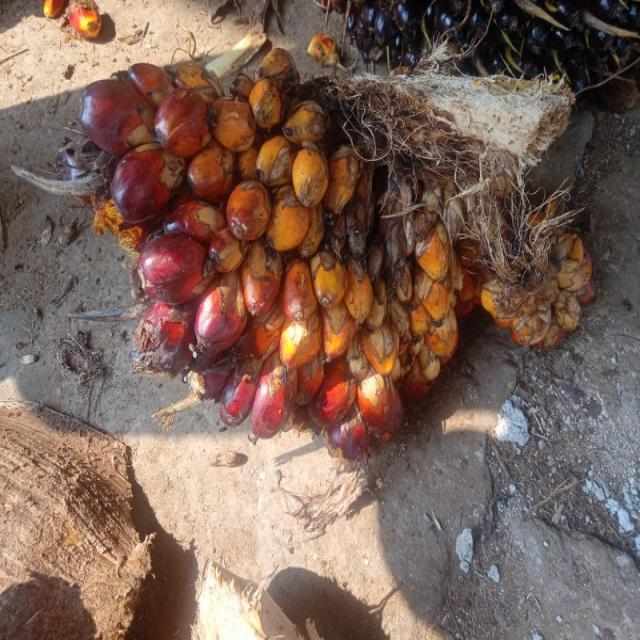fraksi 3: (62, 27, 612, 474)
